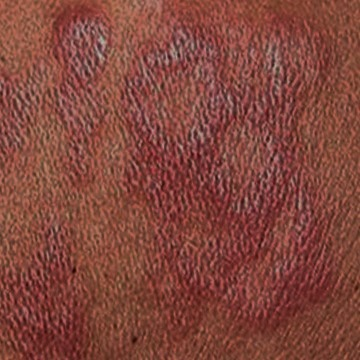Leprosy: (123, 18, 351, 326), (0, 0, 112, 179), (3, 214, 111, 359)
